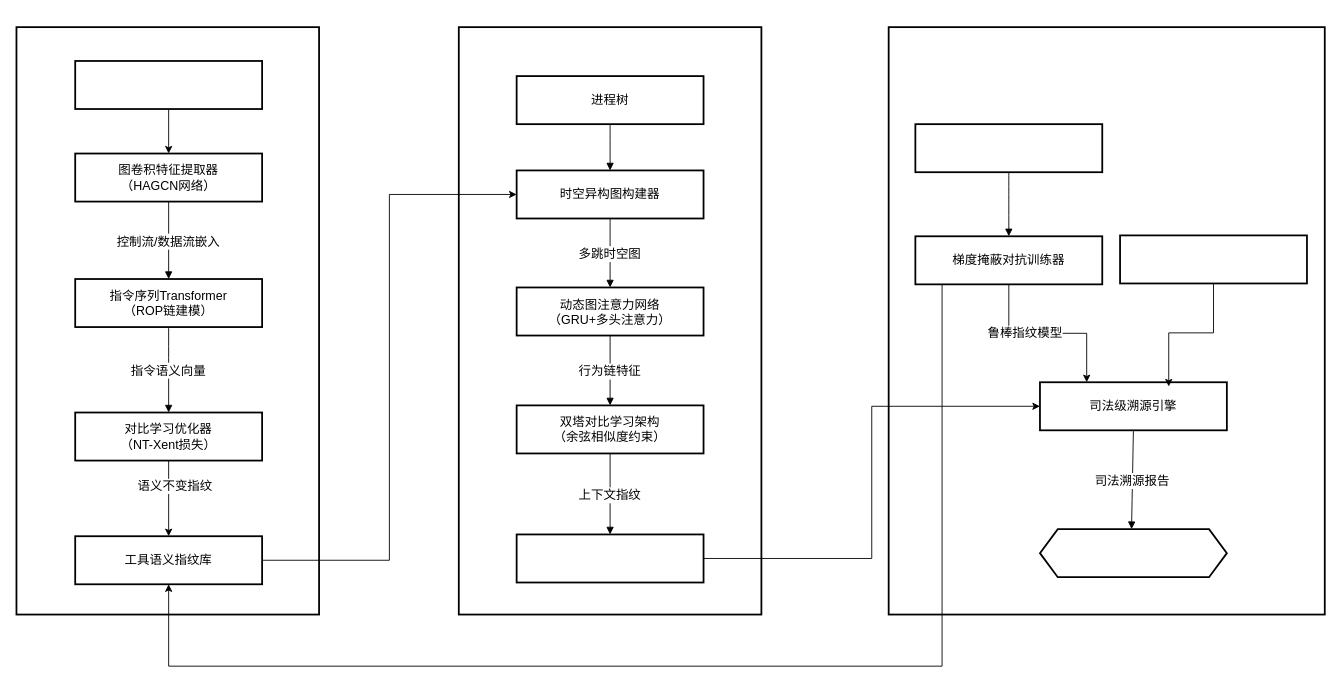
Some shapes in this 1340 by 689 pixel diagram are drawn without their labels. The shapes that lost their labels are listed below. From the top down, each one's centre as x and y in pixels, then its label:
point 168,84: 混淆二进制代码
point 1008,148: 对抗样本
point 1213,259: MITRE ATT&CK图谱
point 609,558: 强判别性指纹
point 1133,553: 输出
